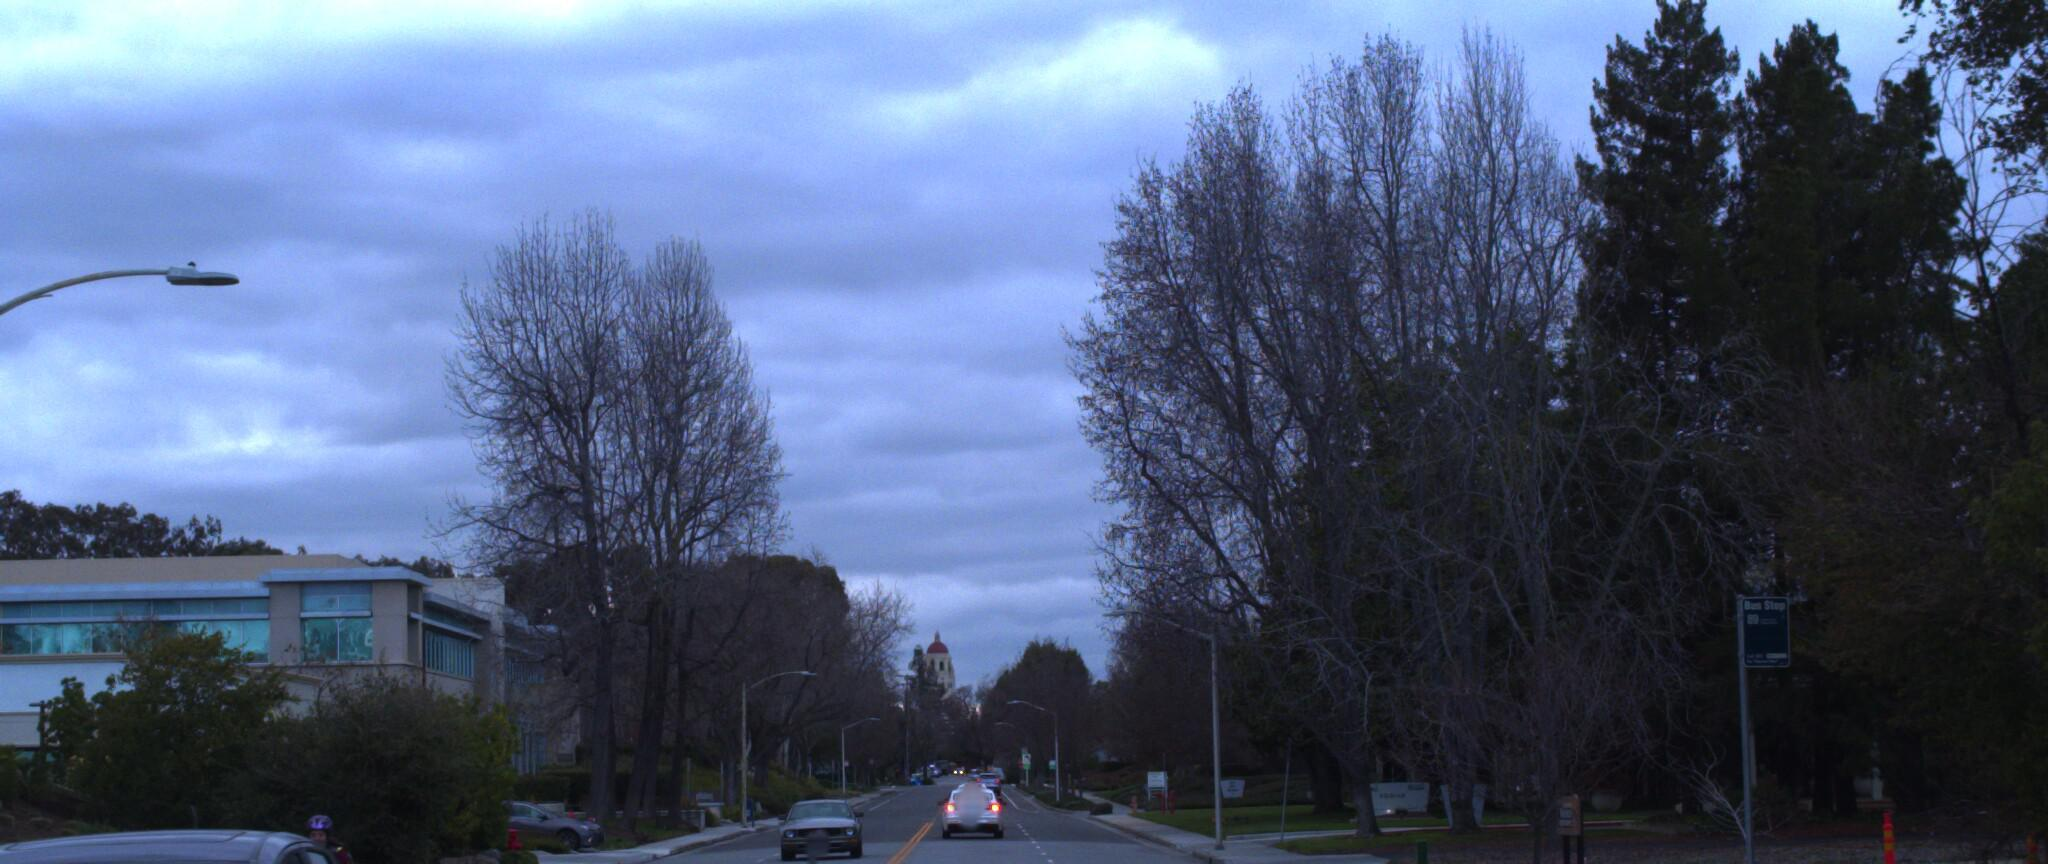bicycle: (227, 807, 355, 864)
car: (0, 492, 94, 864), (0, 809, 428, 864), (771, 779, 865, 854)
